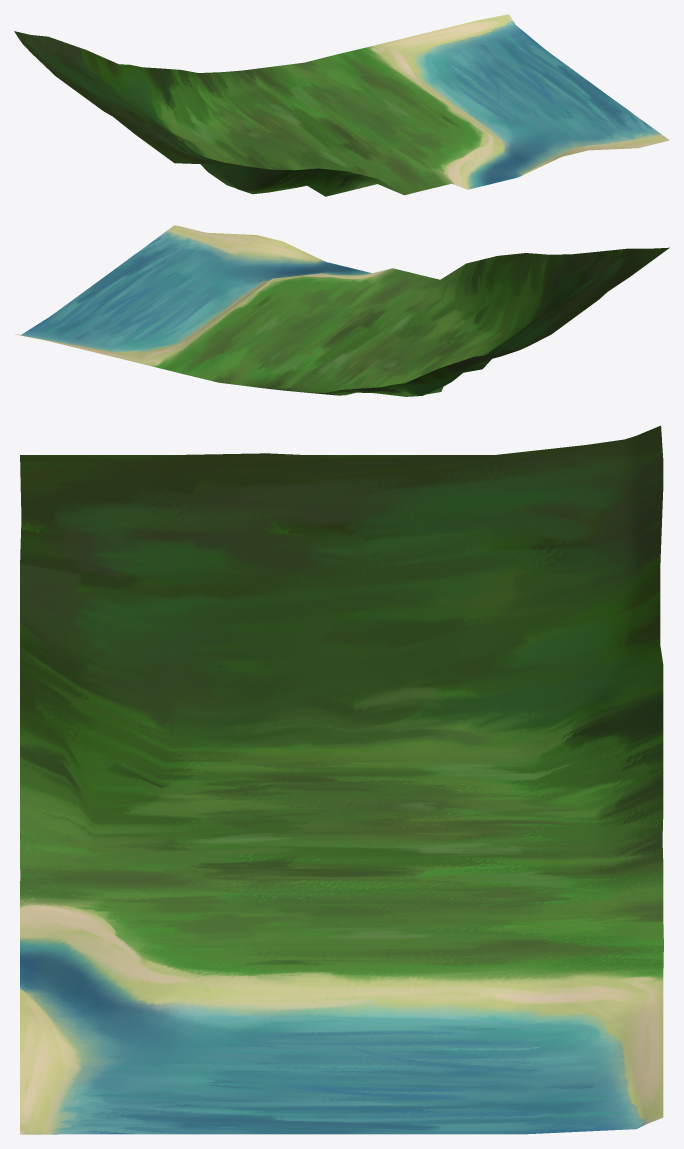
File: tikei.fbx
3 renders of one model, top to bottom at view 1: azimuth 30°, elevation 25°; view 2: azimuth 150°, elevation 25°; view 3: azimuth 270°, elevation 25°, orthographic. The views are drawn at different scales.
Visible parts, largest first — view 1: pPlane4; view 2: pPlane4; view 3: pPlane4.
Part boxes in pixels (left/top/right/bottom): pPlane4: left=14, top=14, right=669, bottom=196; pPlane4: left=15, top=225, right=669, bottom=396; pPlane4: left=20, top=425, right=663, bottom=1134.
Size of the model in its own units: 770 by 168 by 434.
